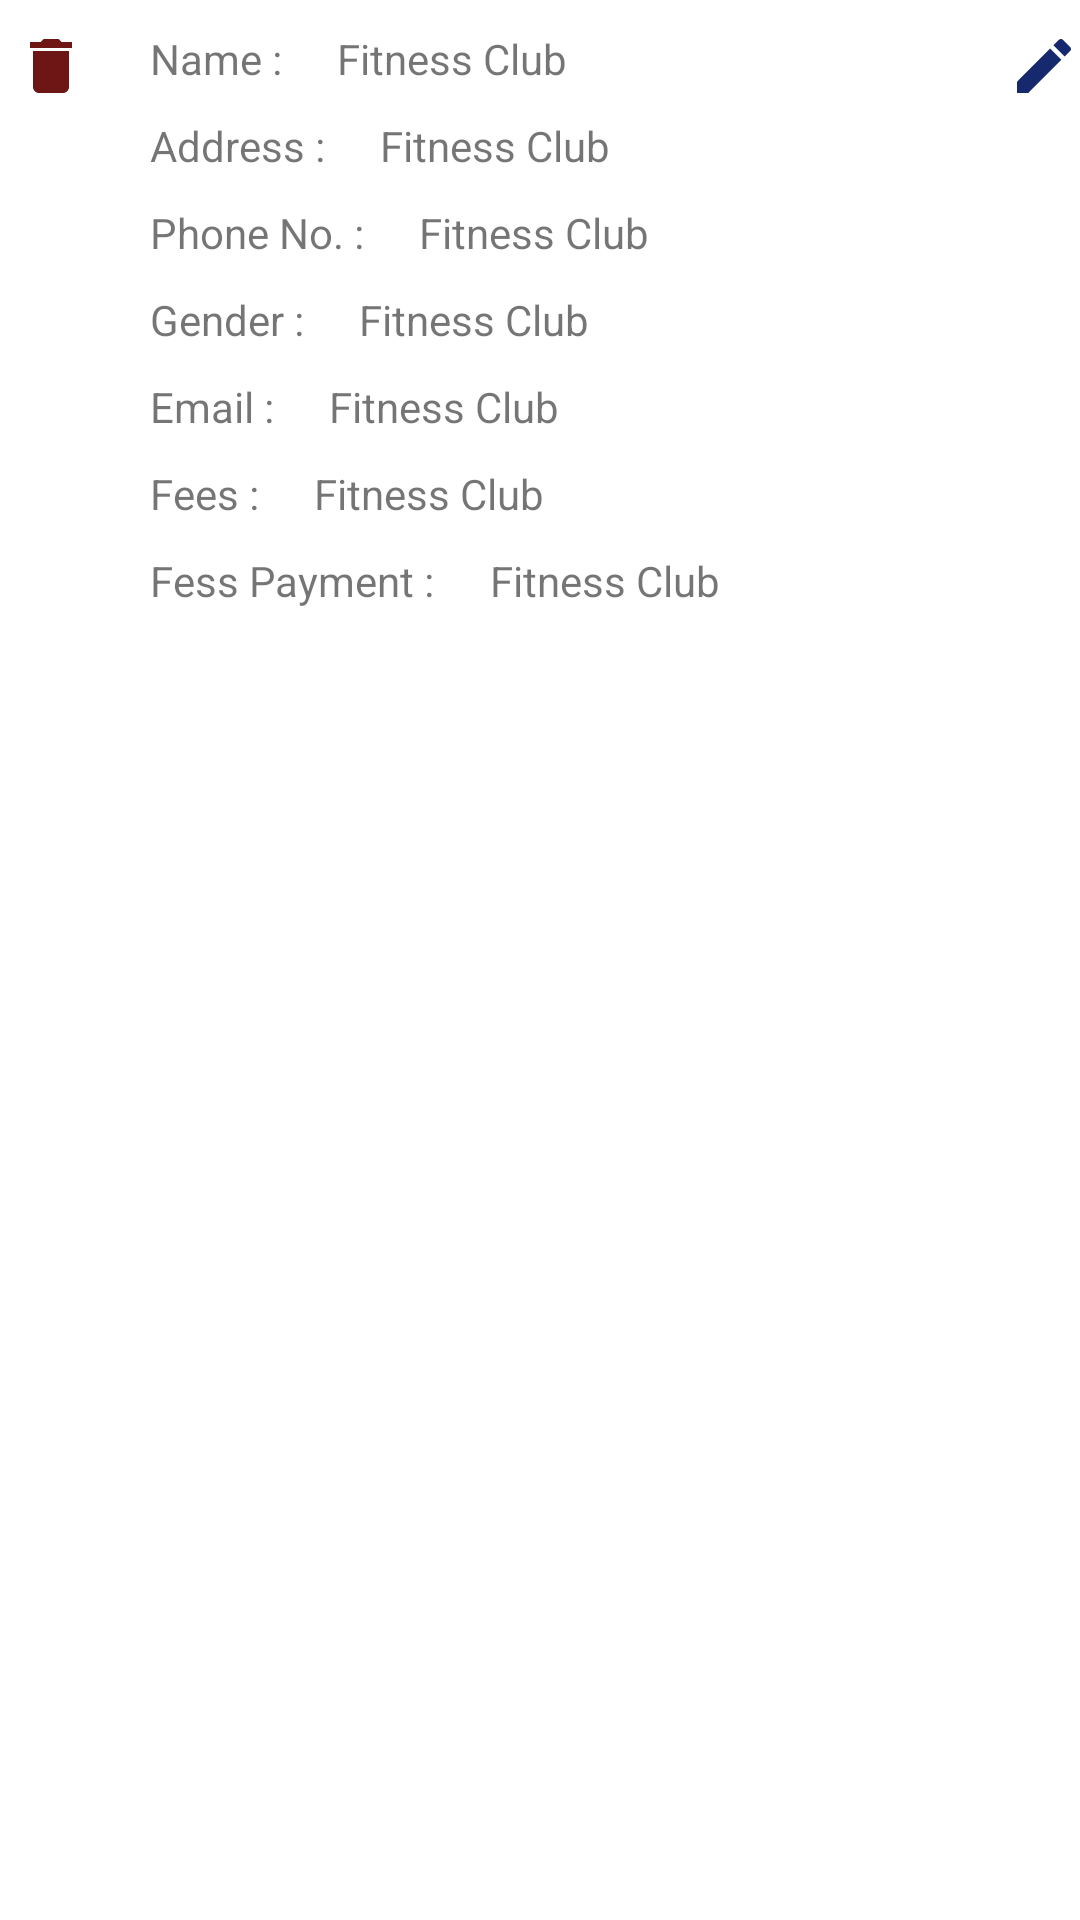

Icons on this 1080×1920 Android screen, each with the point to tap as [x,y]:
delete: [51,66]
edit: [1044,66]
